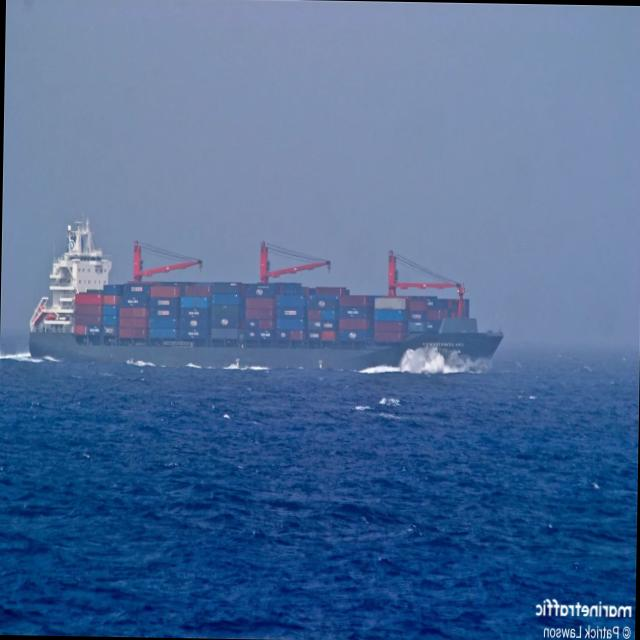Cargo: (29, 218, 502, 369)
